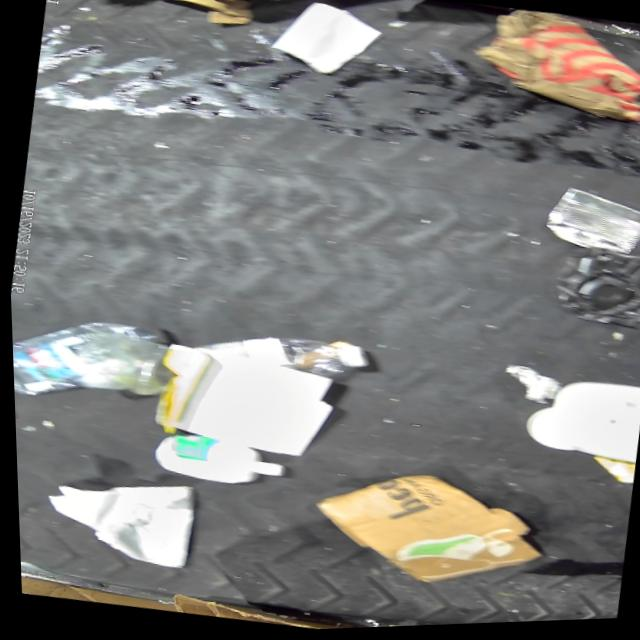can: (9, 301, 178, 420), (532, 181, 640, 270)
